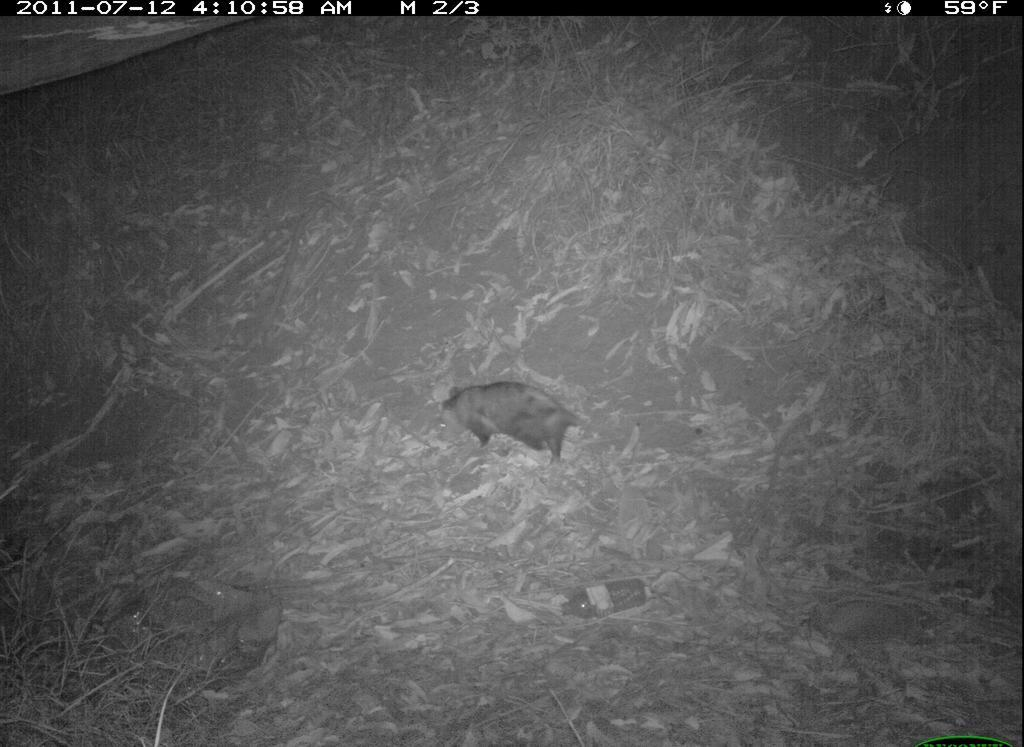opossum: (428, 365, 616, 488)
